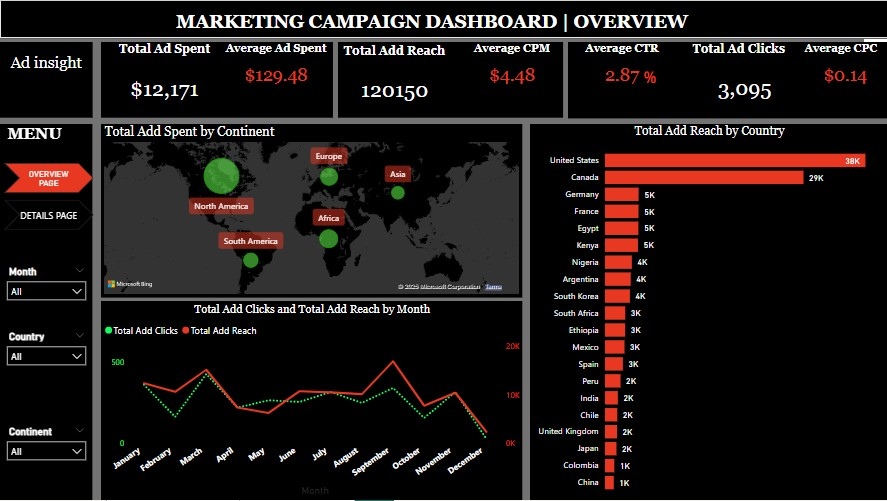

The page's visual inventory and layout, read from the dashboard file:
{"tool":"powerbi","page":{"name":" OVERVIEW PAGE","canvas":[1280,720],"ordinal":0},"visuals":[{"type":"shape","box":[0,178.3,133.3,541.7],"z":0},{"type":"shape","box":[763.3,178.3,516.7,541.7],"z":1000},{"type":"shape","box":[145,178.3,606.7,250],"z":2000},{"type":"shape","box":[0,0,1280,55],"z":3000},{"type":"shape","box":[818.3,60,461.7,110],"z":4000},{"type":"textbox","box":[221.7,11.7,800,43.3],"z":5000},{"type":"shape","box":[486.7,60.5,325.4,109.4],"z":6000},{"type":"shape","box":[145.4,60.5,334.1,109.4],"z":7000},{"type":"shape","box":[145,433.3,606.7,286.7],"z":8000},{"type":"card","title":"Total Ad Spent","fields":{"Values":["Formulas.Total Add Spent"]},"box":[161.3,60.5,151.2,112.3],"z":9000},{"type":"card","title":"Total Add Reach","fields":{"Values":["Formulas.Total Add Reach"]},"box":[486.7,63.4,162.7,109.4],"z":10000},{"type":"card","title":"Total Ad Clicks","fields":{"Values":["Formulas.Total Add Clicks"]},"box":[992.2,60.5,161.3,109.4],"z":11000},{"type":"card","title":"Average Ad Spent","fields":{"Values":["Formulas.Average Add Spent"]},"box":[315.4,60.5,164.2,74.9],"z":12000},{"type":"card","title":"Average CPC","fields":{"Values":["Formulas.Average CPC"]},"box":[1153.4,60.5,126.7,74.9],"z":13000},{"type":"card","title":"Average CTR","fields":{"Values":["Formulas.Average CTR"]},"box":[817.9,60.5,155.5,74.9],"z":14000,"group":"g1"},{"type":"card","title":"Average CPM","fields":{"Values":["Formulas.Average CPM"]},"box":[662.4,60.5,149.8,74.9],"z":15000},{"type":"clusteredBarChart","fields":{"Category":["Dataset.Country"],"Y":["Formulas.Total Add Reach"]},"box":[763.2,178.6,517,541.4],"z":15000},{"type":"lineChart","fields":{"Y":["Formulas.Total Add Clicks"],"Y2":["Formulas.Total Add Reach"],"Category":["Dataset.Month"]},"box":[145,436.7,608.3,283.3],"z":16000},{"type":"map","fields":{"Category":["Dataset.Continent"],"Size":["Formulas.Total Add Spent"]},"box":[145,178.3,606.7,250],"z":17000},{"type":"slicer","fields":{"Values":["Dataset.Month"]},"box":[0,377.3,133.9,72],"z":18000},{"type":"slicer","fields":{"Values":["Dataset.Country"]},"box":[0,470.9,133.9,105.1],"z":19000},{"type":"slicer","fields":{"Values":["Dataset.Continent"]},"box":[0,607.7,133.9,112.3],"z":20000},{"type":"shape","box":[0,60.5,133.9,109.4],"z":21000},{"type":"textbox","title":"Ad insight","box":[10.1,76.3,119.5,56.2],"z":22000},{"type":"textbox","title":"MENU","box":[5.8,178.6,123.8,30.2],"z":23000},{"type":"pageNavigator","box":[5.8,234.7,129.6,96.5],"z":24000},{"type":"textbox","title":"%","box":[921.6,97.9,33.1,34.6],"z":24003,"group":"g1"},{"type":"group","id":"g1","title":"Group 1","box":[817.9,60.5,155.5,74.9],"z":24004}]}

Visuals, with their boxes in screenshot pixels (x1, y1, x2, y2), scaled from the page's 1280x720 canvas onto the 887x501 screenshot:
shape: box(0, 124, 92, 500)
shape: box(529, 124, 886, 500)
shape: box(100, 124, 521, 298)
shape: box(0, 0, 886, 38)
shape: box(567, 42, 886, 118)
textbox: box(154, 8, 708, 38)
shape: box(337, 42, 563, 118)
shape: box(101, 42, 332, 118)
shape: box(100, 302, 521, 500)
"Total Ad Spent" card: box(112, 42, 217, 120)
"Total Add Reach" card: box(337, 44, 450, 120)
"Total Ad Clicks" card: box(688, 42, 799, 118)
"Average Ad Spent" card: box(219, 42, 332, 94)
"Average CPC" card: box(799, 42, 886, 94)
"Average CTR" card: box(567, 42, 675, 94)
"Average CPM" card: box(459, 42, 563, 94)
clusteredBarChart - Dataset.Country x Formulas.Total Add Reach: box(529, 124, 886, 500)
lineChart - Formulas.Total Add Clicks x Formulas.Total Add Reach: box(100, 304, 522, 500)
map - Dataset.Continent x Formulas.Total Add Spent: box(100, 124, 521, 298)
slicer - Dataset.Month: box(0, 263, 93, 313)
slicer - Dataset.Country: box(0, 328, 93, 401)
slicer - Dataset.Continent: box(0, 423, 93, 500)
shape: box(0, 42, 93, 118)
"Ad insight" textbox: box(7, 53, 90, 92)
"MENU" textbox: box(4, 124, 90, 145)
pageNavigator: box(4, 163, 94, 230)
"%" textbox: box(639, 68, 662, 92)
"Group 1" group: box(567, 42, 675, 94)
